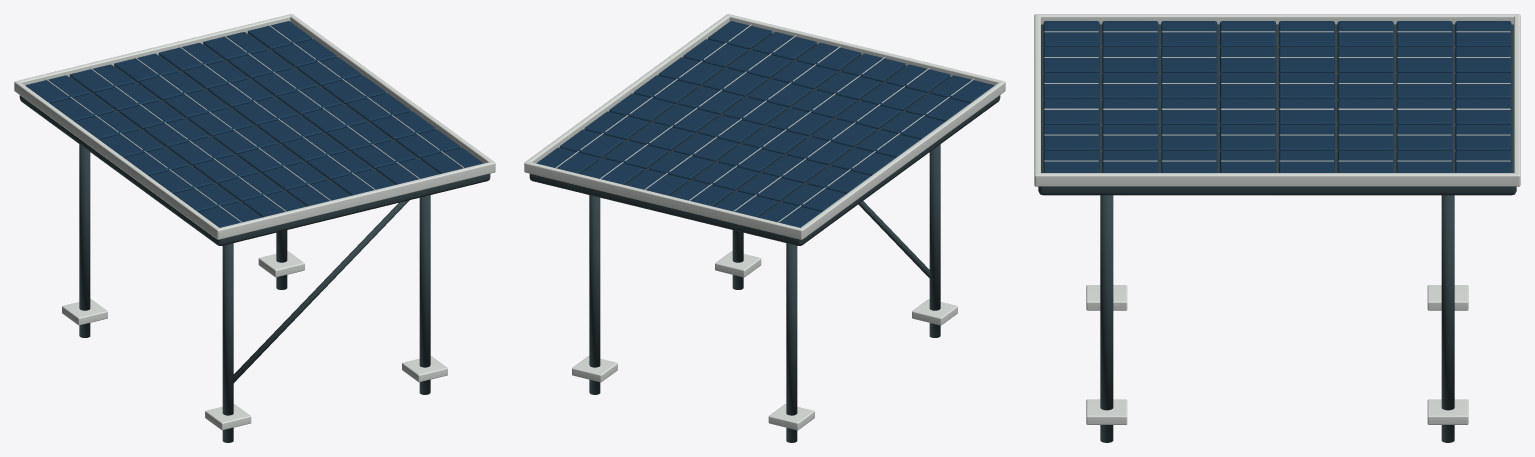
The model's file is eva01-solar.glb.
3 views of the same model, side by side, from view 1: azimuth 30°, elevation 25°; view 2: azimuth 150°, elevation 25°; view 3: azimuth 270°, elevation 25° (orthographic). The views are drawn at different scales.
Visible parts, largest first — view 1: Bastidor solar, Perfil frontal, Perfil lateral, Pata anclada.002, Pata anclada, Pata anclada.001, Perfil lateral.001, Perfil frontal.001, Arriostramiento, Célula fotovoltaica.037, Célula fotovoltaica.042, Célula fotovoltaica.012 (+50 smaller); view 2: Bastidor solar, Perfil frontal.001, Perfil lateral, Pata anclada.003, Pata anclada.001, Pata anclada, Perfil lateral.001, Perfil frontal, Célula fotovoltaica.034, Célula fotovoltaica.045, Célula fotovoltaica.010, Célula fotovoltaica.011 (+50 smaller); view 3: Bastidor solar, Perfil lateral.001, Perfil lateral, Pata anclada.002, Pata anclada.003, Célula fotovoltaica.034, Célula fotovoltaica.037, Célula fotovoltaica.032, Célula fotovoltaica.033, Célula fotovoltaica.038, Célula fotovoltaica.039, Célula fotovoltaica.035 (+47 smaller).
Boxes of the visible parts, x1,y1,x2,y2 form: Bastidor solar: [19, 33, 490, 245]; Perfil frontal: [217, 161, 495, 239]; Perfil lateral: [14, 81, 219, 239]; Pata anclada.002: [419, 195, 430, 394]; Pata anclada: [222, 243, 233, 442]; Pata anclada.001: [79, 144, 90, 337]; Perfil lateral.001: [290, 14, 495, 163]; Perfil frontal.001: [16, 14, 292, 85]; Arriostramiento: [233, 200, 409, 382]; Célula fotovoltaica.037: [252, 68, 316, 96]; Célula fotovoltaica.042: [371, 111, 435, 139]; Célula fotovoltaica.012: [143, 118, 207, 147]; Bastidor solar: [529, 33, 1000, 245]; Perfil frontal.001: [524, 161, 802, 239]; Perfil lateral: [800, 81, 1005, 239]; Pata anclada.003: [589, 195, 600, 394]; Pata anclada.001: [786, 243, 797, 442]; Pata anclada: [929, 144, 940, 337]; Perfil lateral.001: [524, 14, 729, 163]; Perfil frontal: [727, 14, 1003, 85]; Célula fotovoltaica.034: [703, 68, 767, 96]; Célula fotovoltaica.045: [584, 111, 648, 139]; Célula fotovoltaica.010: [836, 100, 900, 129]; Célula fotovoltaica.011: [812, 118, 876, 147]; Bastidor solar: [1038, 24, 1516, 195]; Perfil lateral.001: [1035, 173, 1519, 186]; Perfil lateral: [1036, 14, 1518, 24]; Pata anclada.002: [1100, 195, 1113, 442]; Pata anclada.003: [1441, 195, 1454, 442]; Célula fotovoltaica.034: [1161, 124, 1217, 150]; Célula fotovoltaica.037: [1337, 124, 1393, 150]; Célula fotovoltaica.032: [1043, 124, 1099, 150]; Célula fotovoltaica.033: [1102, 124, 1158, 150]; Célula fotovoltaica.038: [1396, 124, 1452, 150]; Célula fotovoltaica.039: [1455, 124, 1511, 150]; Célula fotovoltaica.035: [1220, 124, 1275, 150].
Size of the model in its own units: 2.6 by 2.17 by 3.3.
